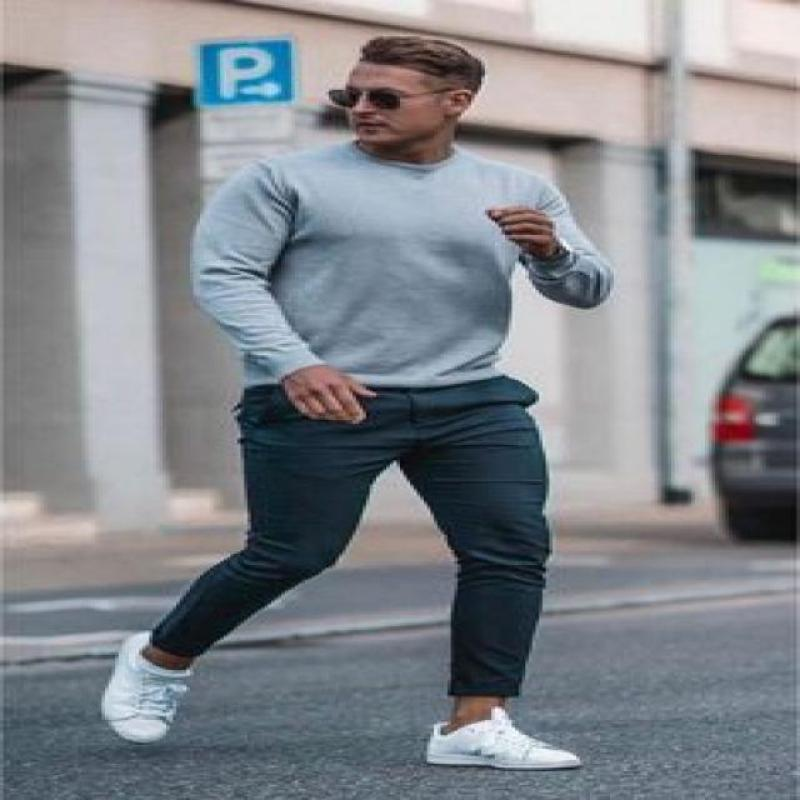sweater: (182, 137, 614, 394)
trousers: (144, 367, 555, 712)
